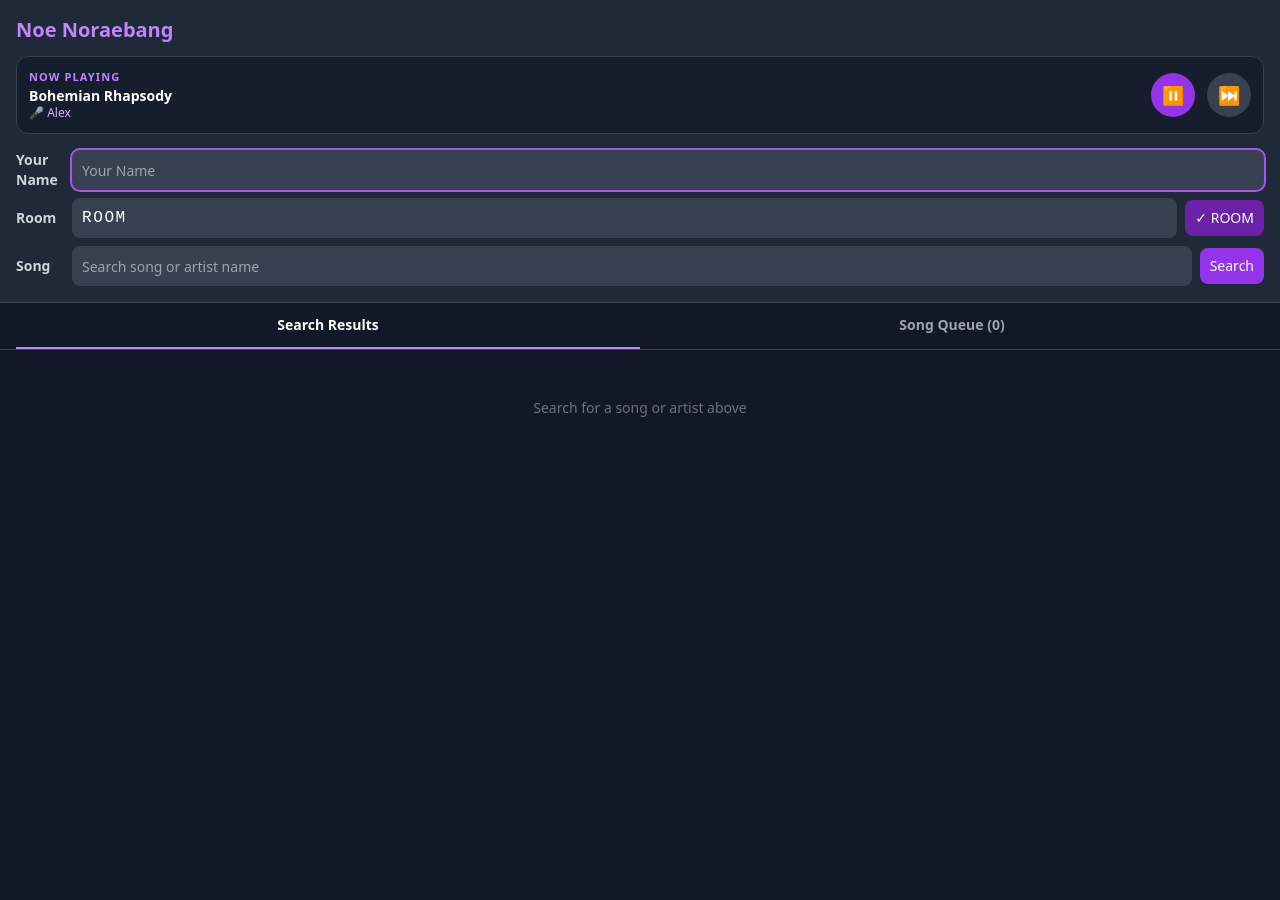
MobileView › remote for the TV › reports when a command could not reach the TV
The image size is (1280, 900).
Expected: the element with test id "now-playing" is shown, [29,86,172,121]
Click the button with test id "mobile-play-pause-btn": (1173, 95) [1151,73,1195,117]
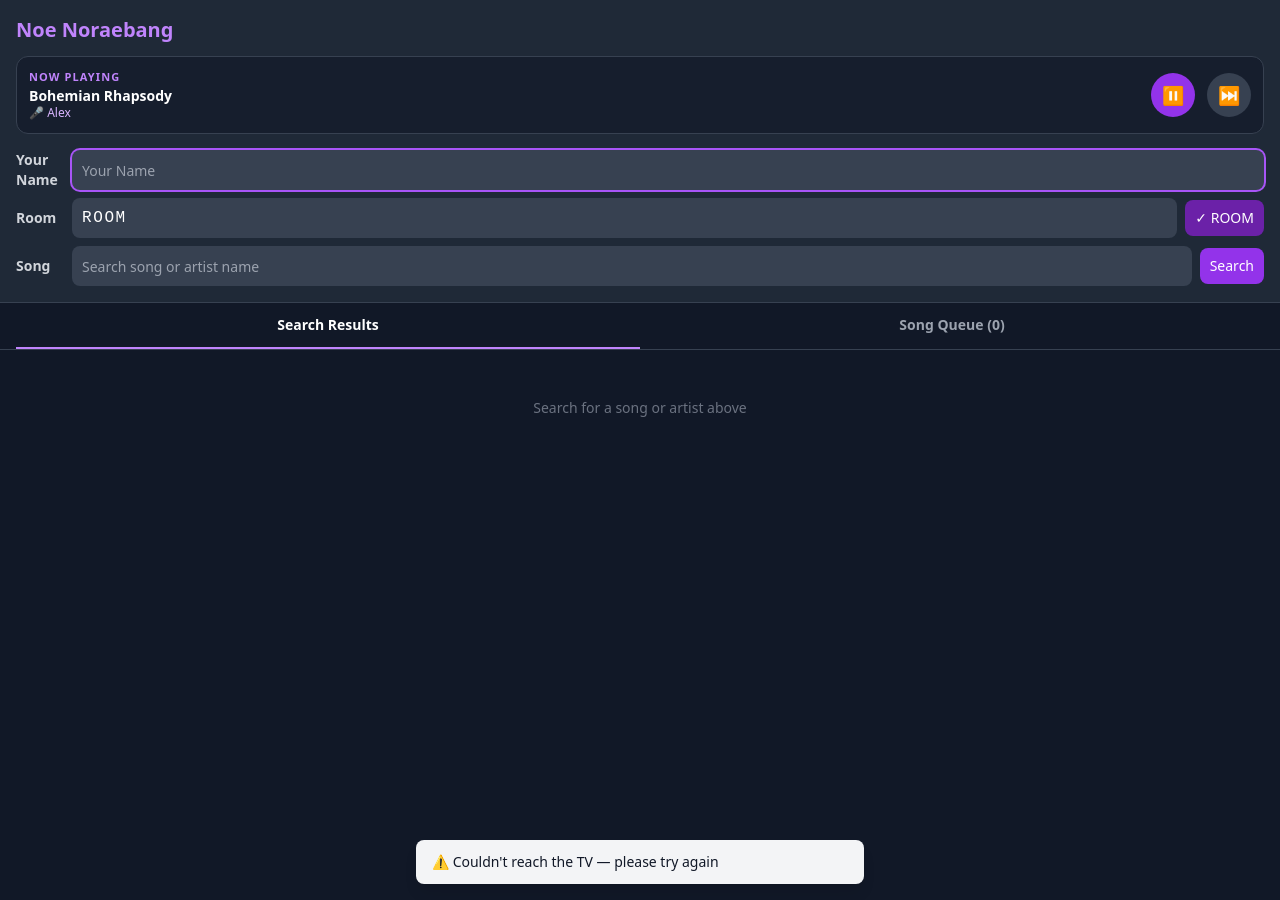
Expected: the message with test id "toast" shows "Couldn't reach the TV", [432,852,719,871]
